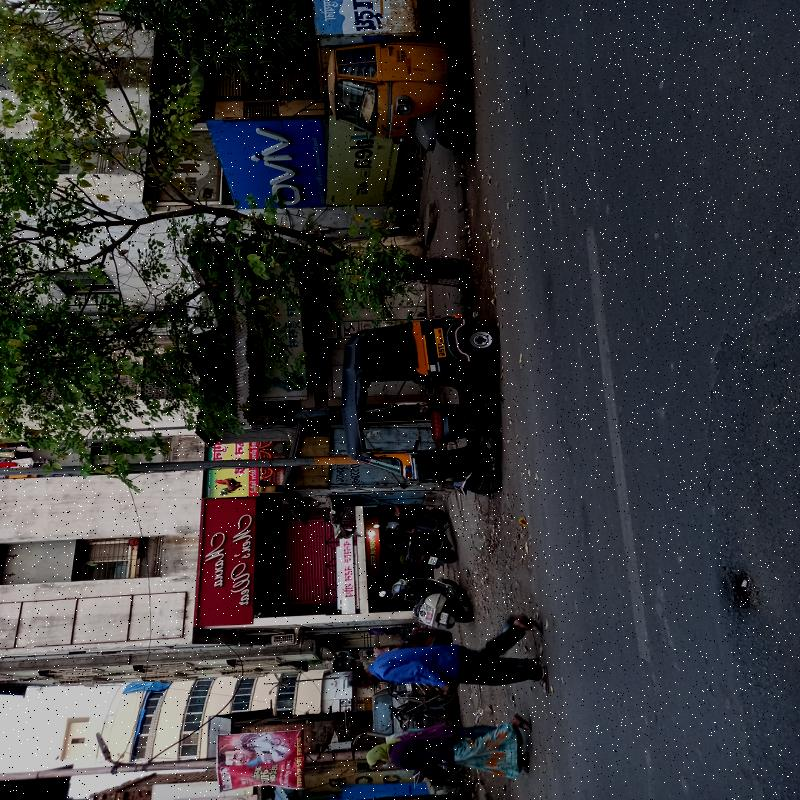auto: (313, 318, 492, 508)
